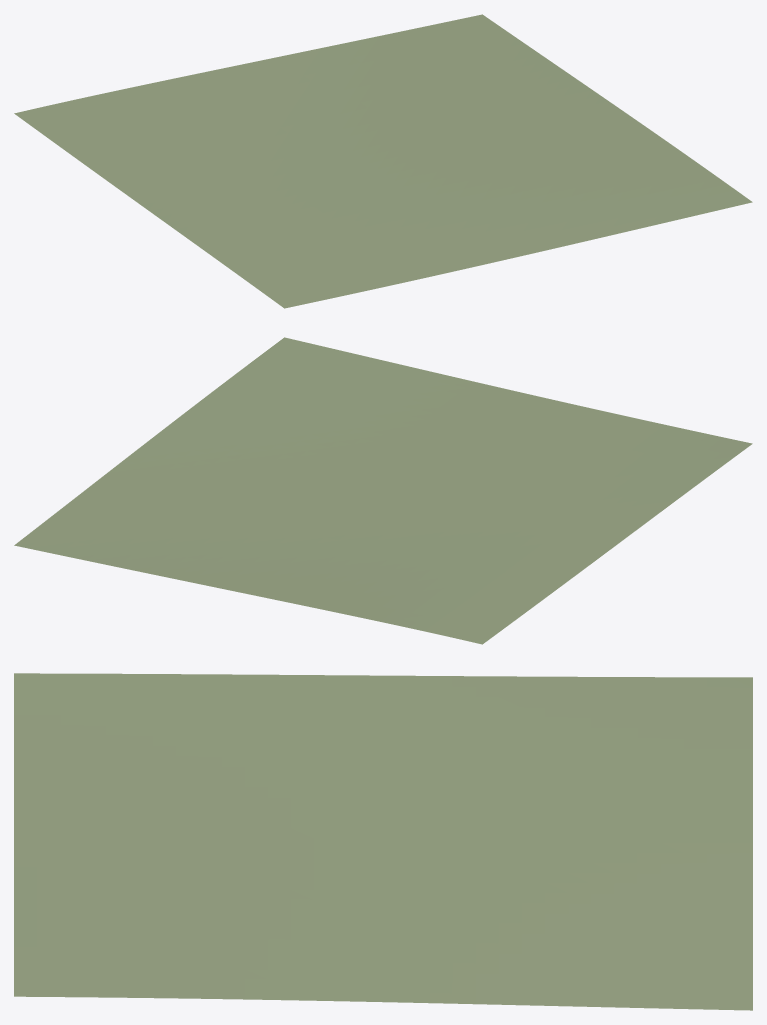
File: expanse-7-28.glb
3 views of the same model, one above another, from view 1: azimuth 30°, elevation 25°; view 2: azimuth 150°, elevation 25°; view 3: azimuth 270°, elevation 25° (orthographic). The views are drawn at different scales.
Visible parts, largest first — view 1: expanse-7-28; view 2: expanse-7-28; view 3: expanse-7-28.
Part boxes in pixels (x1,y1,x2,y2): expanse-7-28: (14, 14, 752, 308); expanse-7-28: (14, 337, 752, 644); expanse-7-28: (14, 673, 752, 1010).
Bounding box in the file's own units: 256 × 9.49 × 256.
